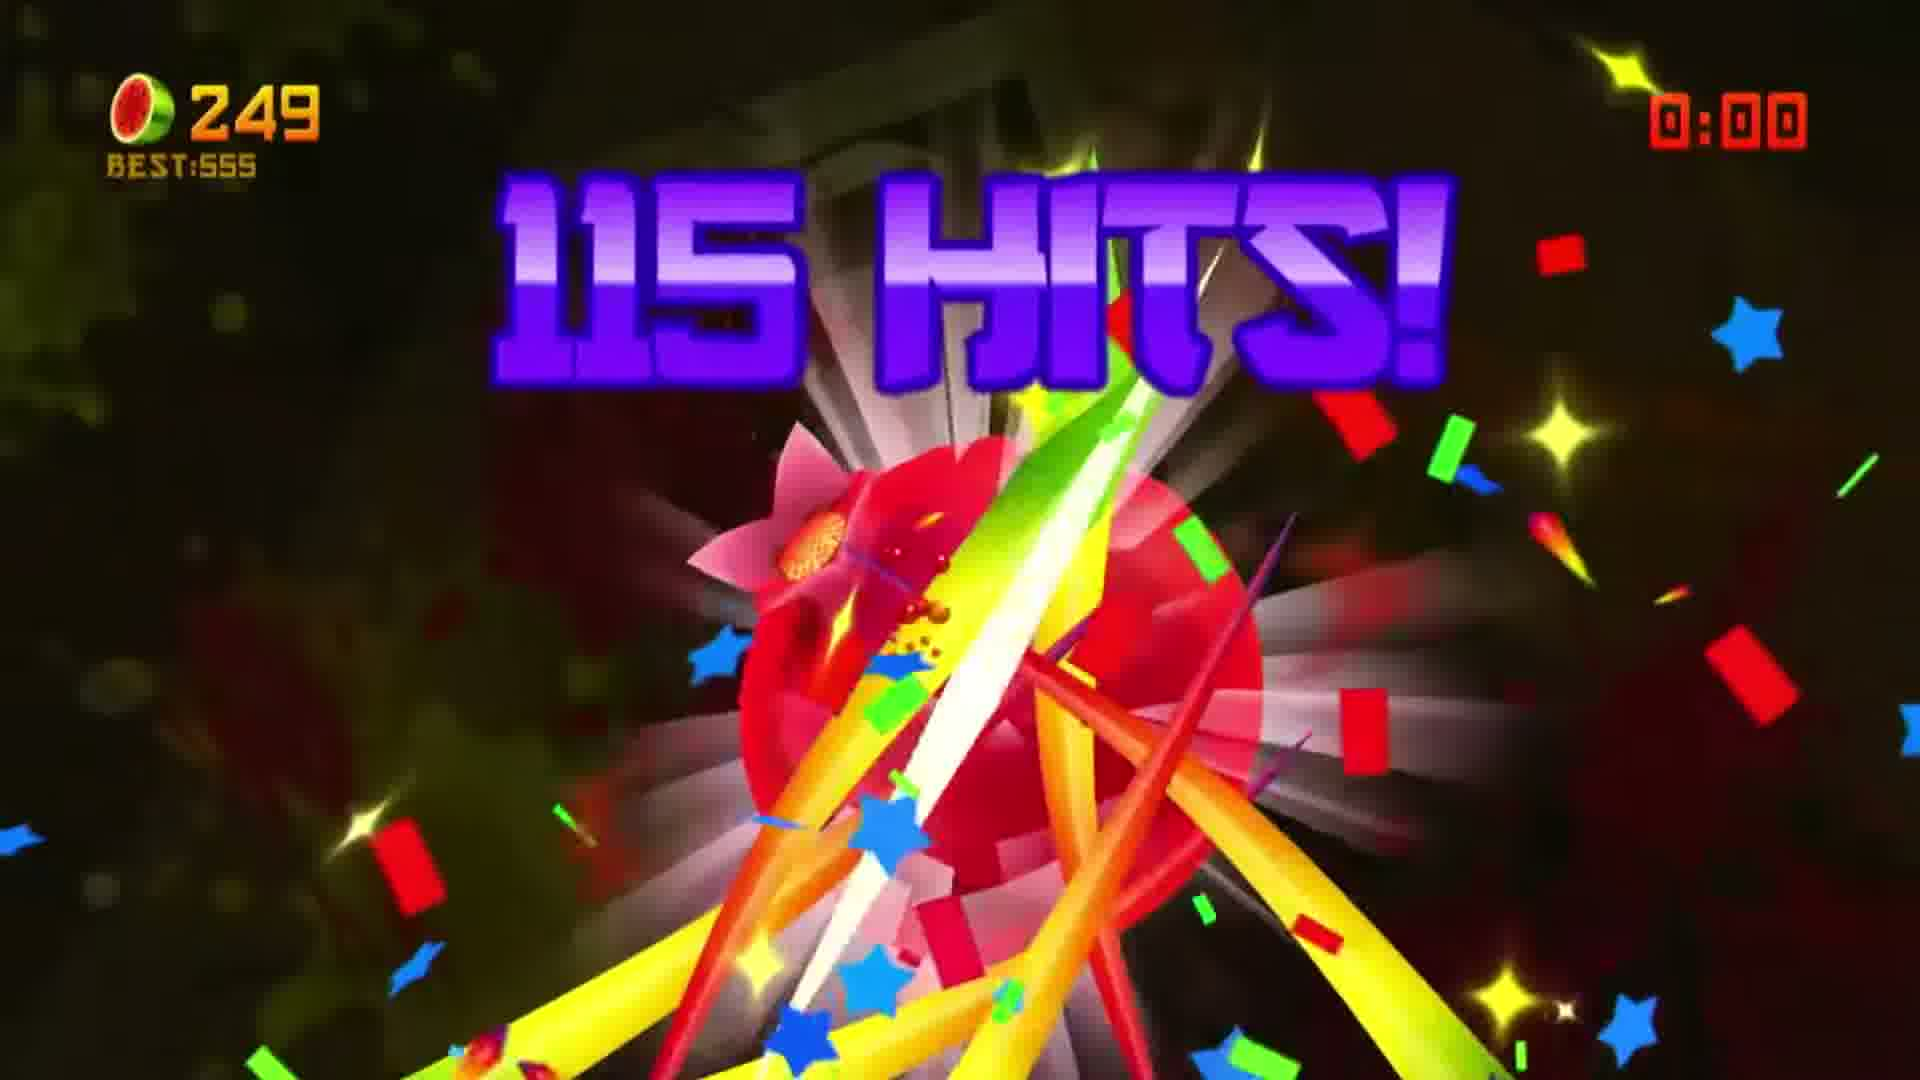blade_trail: (393, 311, 1571, 1062)
fruit: (754, 375, 1158, 903)
